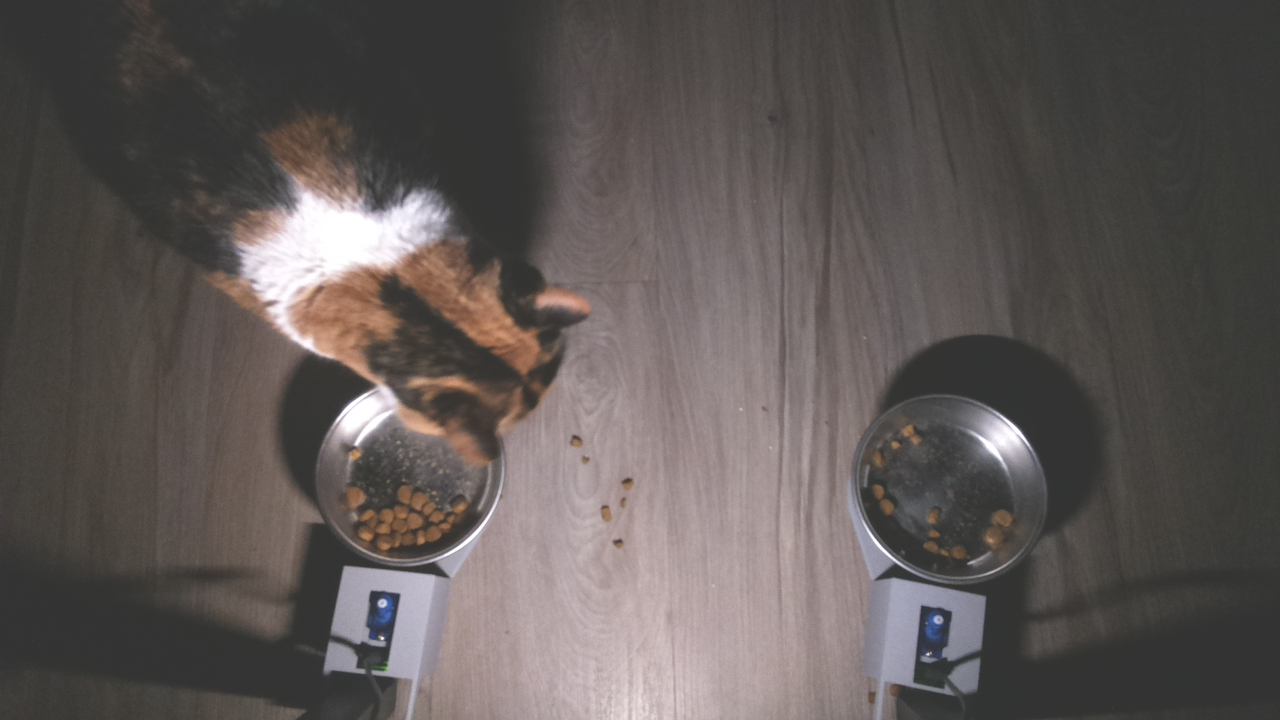bella: (368, 199, 576, 462)
open_bowl: (845, 391, 1055, 585), (312, 392, 506, 559)
